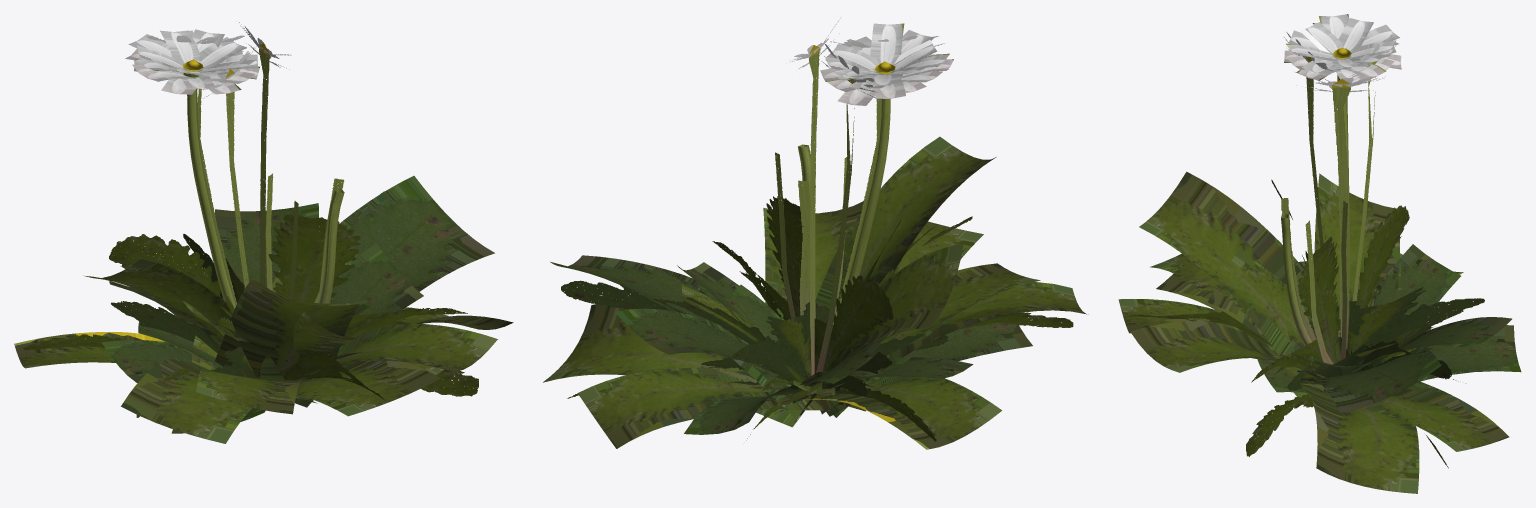
File: PW_Daisy_3.fbx
3 views of the same model, side by side, from view 1: azimuth 30°, elevation 25°; view 2: azimuth 150°, elevation 25°; view 3: azimuth 270°, elevation 25° (orthographic). The views are drawn at different scales.
Parts seen in each view (by area): view 1: LOD0, Billboard; view 2: LOD0, Billboard; view 3: LOD0, Billboard.
Part boxes in pixels (x1=…): LOD0: x1=14, y1=29, x2=513, y2=443; Billboard: x1=23, y1=22, x2=478, y2=417; LOD0: x1=543, y1=23, x2=1088, y2=449; Billboard: x1=561, y1=18, x2=1073, y2=441; LOD0: x1=1118, y1=14, x2=1521, y2=493; Billboard: x1=1127, y1=32, x2=1484, y2=468.
Size of what is drawn, in the model's own units: 6.44 by 5.11 by 5.68.
